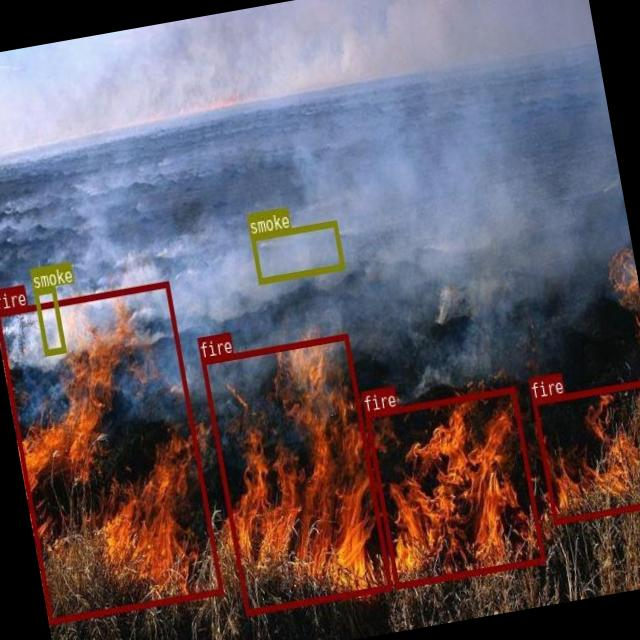fire: (0, 280, 222, 624), (200, 332, 392, 614), (363, 386, 544, 588), (531, 378, 640, 523)
smoke: (249, 220, 343, 282), (32, 284, 64, 354)
